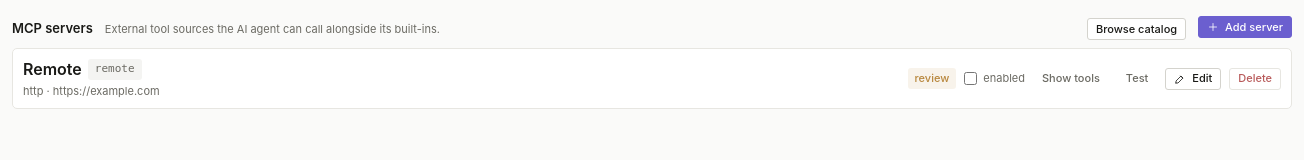
Test case: McpServersSection › renders an empty hint when a connection has no live tools
The image size is (1304, 160).
Check: the element with test id "mcp-row-remote" is shown, box [12,48,1292,109]
Click the button with test id "mcp-tools-toggle-remote" at (1071, 78), box [1033,68,1109,90]
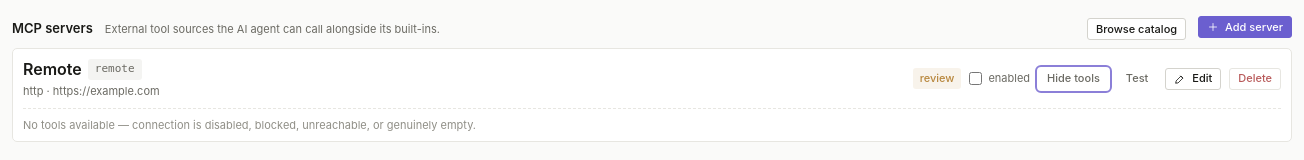
Check: the element with test id "mcp-tools-list-remote" shows "No tools available", box [23,118,476,132]
